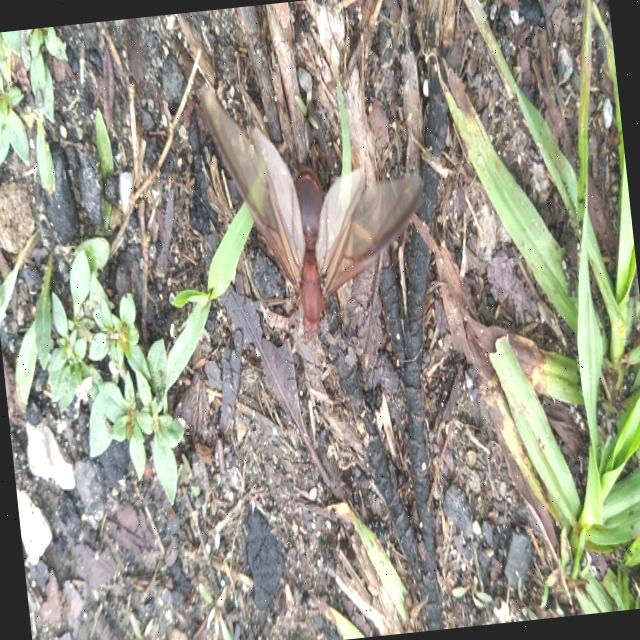Alive-Female-Alate: (196, 63, 440, 373)
